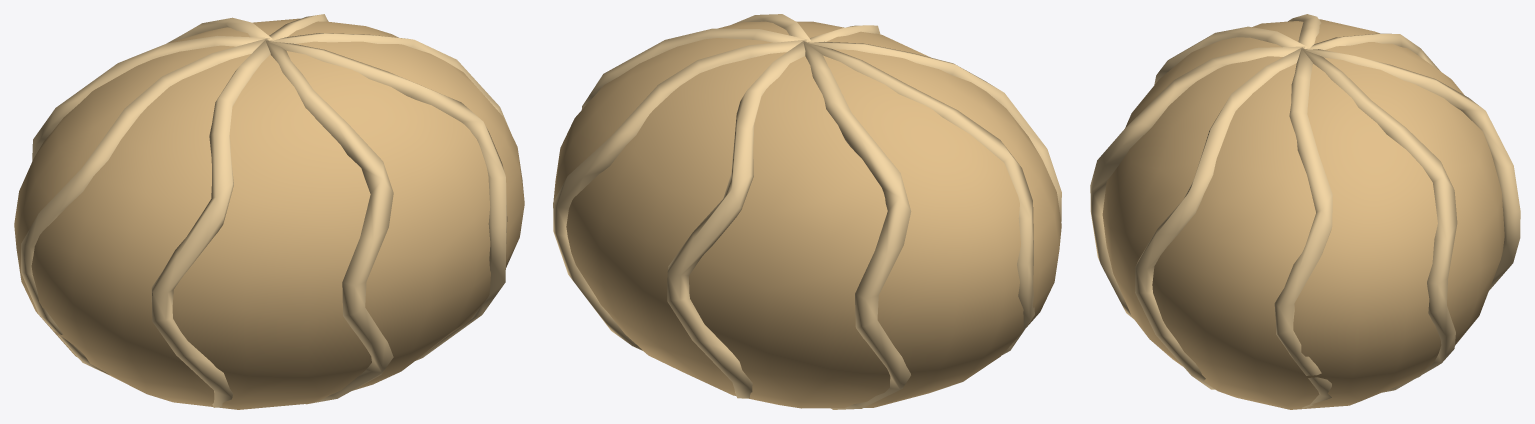
File: reef_coral_3.glb
3 renders of one model, left to right at view 1: azimuth 30°, elevation 25°; view 2: azimuth 150°, elevation 25°; view 3: azimuth 270°, elevation 25°, orthographic. The views are drawn at different scales.
Visible parts, largest first — view 1: reef_coral_3_painted_mesh; view 2: reef_coral_3_painted_mesh; view 3: reef_coral_3_painted_mesh.
Boxes of the visible parts, x1,y1,x2,y2 form: reef_coral_3_painted_mesh: [14, 14, 524, 409]; reef_coral_3_painted_mesh: [553, 14, 1061, 409]; reef_coral_3_painted_mesh: [1090, 14, 1520, 409].
Size of the model in its own units: 1.53 by 1.07 by 1.27.
